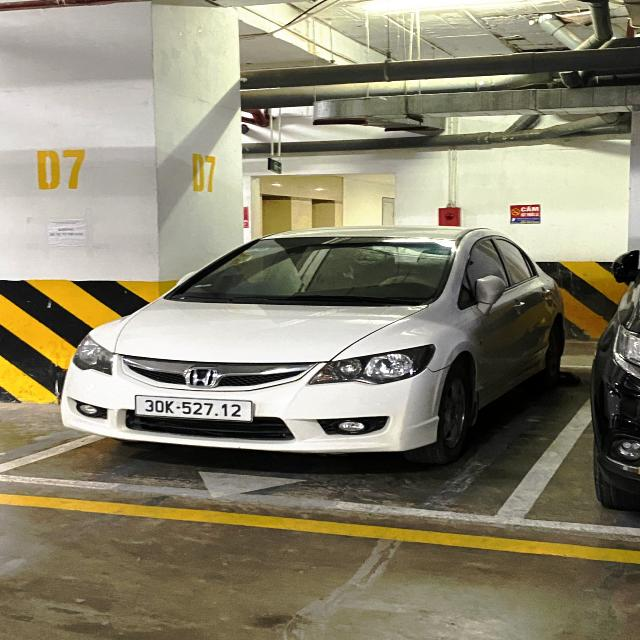license_plate: (133, 393, 257, 427)
